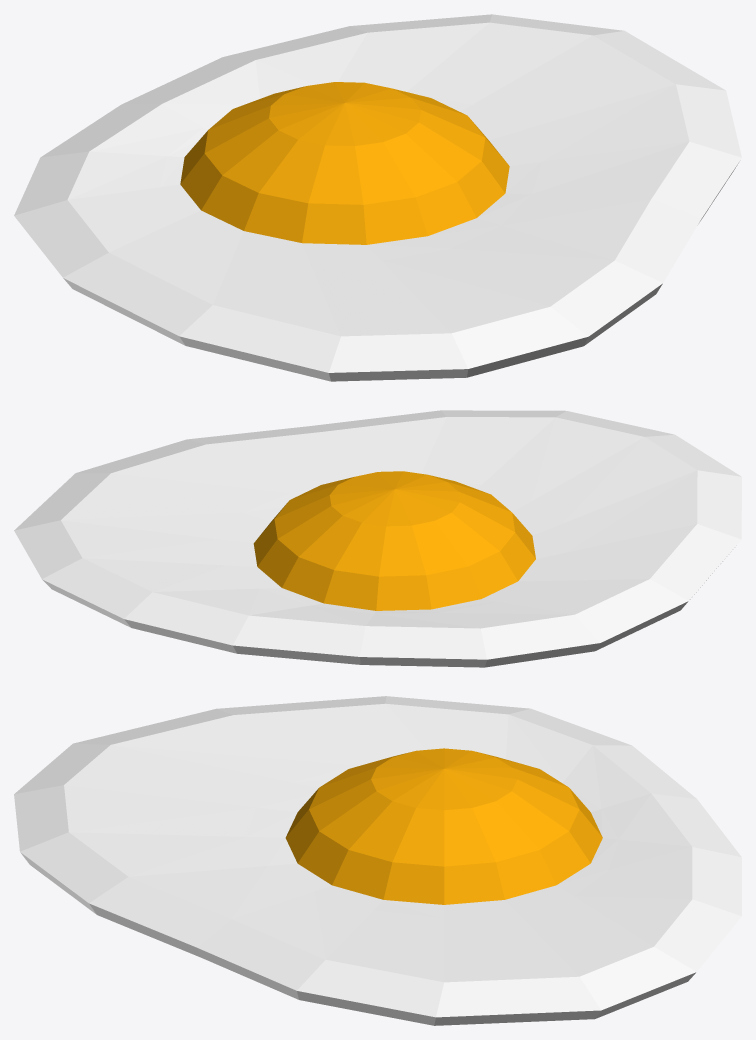
The model's file is egg.obj.
3 views of the same model, one above another, from view 1: azimuth 30°, elevation 25°; view 2: azimuth 150°, elevation 25°; view 3: azimuth 270°, elevation 25° (orthographic). The views are drawn at different scales.
Parts seen in each view (by area): view 1: Sunny_Side_Up_Egg; view 2: Sunny_Side_Up_Egg; view 3: Sunny_Side_Up_Egg.
Part boxes in pixels (<box>): Sunny_Side_Up_Egg: <box>14,14,741,381</box>; Sunny_Side_Up_Egg: <box>14,410,741,667</box>; Sunny_Side_Up_Egg: <box>14,696,741,1025</box>.
Bounding box in the file's own units: 91.94 × 11.46 × 88.03.
Materials: 1 (1 with a texture image).
